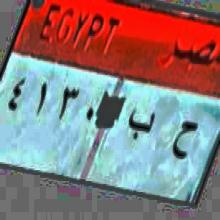0: (81, 96, 96, 126)
1: (32, 71, 49, 122)
3: (57, 80, 80, 128)
4: (6, 74, 27, 120)
7aa: (170, 108, 198, 170)
baa: (128, 97, 155, 153)
